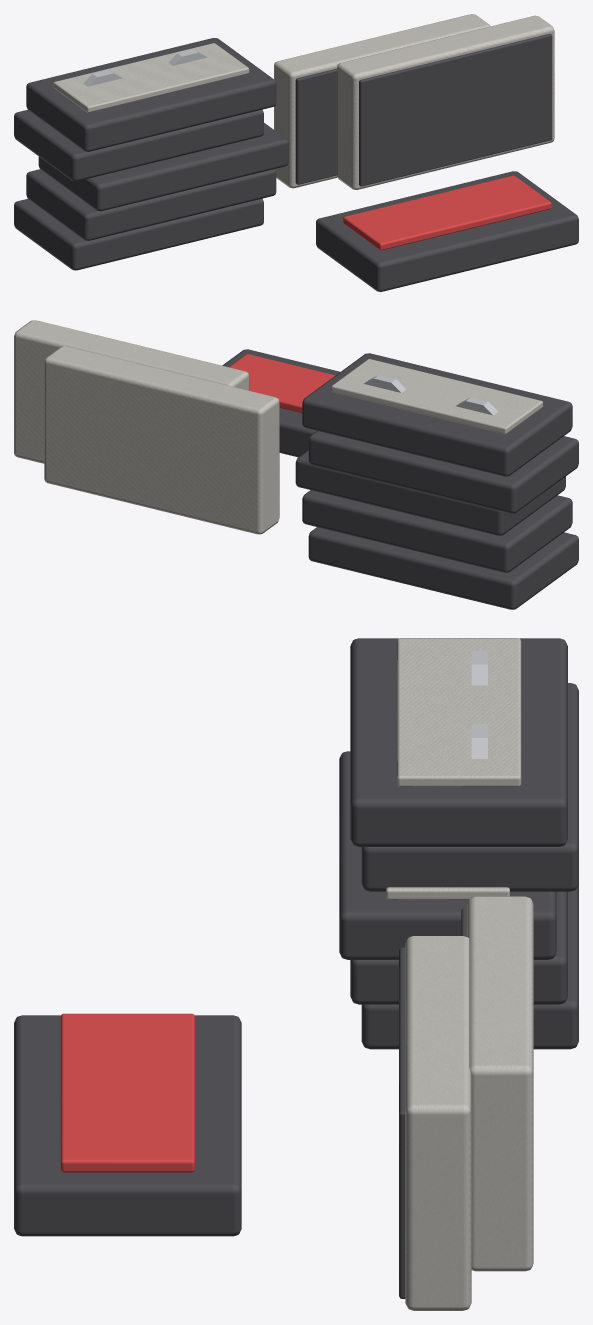
File: halloween-slasher-street-vhs-tape-stack-fbeddb13__27327.glb
The picture shows the model from 3 angles, top to bottom: view 1: azimuth 30°, elevation 25°; view 2: azimuth 150°, elevation 25°; view 3: azimuth 270°, elevation 25°; orthographic projection. The views are drawn at different scales.
Parts seen in each view (by area): view 1: vhs-tape-stack; view 2: vhs-tape-stack; view 3: vhs-tape-stack.
Boxes of the visible parts, box(x1,y1,x2,y2) form: vhs-tape-stack: box(14, 14, 578, 291); vhs-tape-stack: box(14, 320, 578, 609); vhs-tape-stack: box(14, 638, 578, 1310).
Bounding box in the file's own units: 0.489 × 0.1615 × 0.2729.
4 materials, 1 textured.
